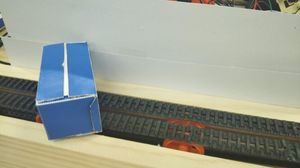box3: (36, 40, 103, 144)
